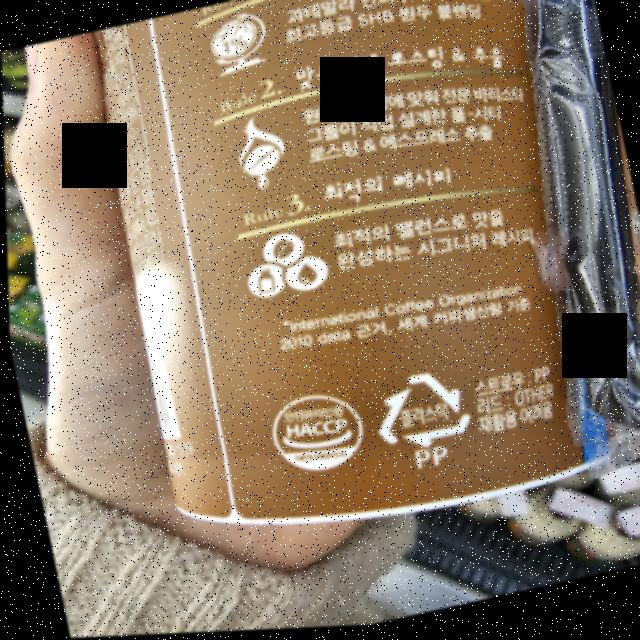Plastic: (361, 364, 475, 463)
